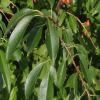Cherry leaf: (2, 4, 44, 62), (24, 61, 46, 99), (45, 18, 60, 66), (26, 25, 43, 57), (38, 71, 55, 100), (56, 59, 68, 91)
